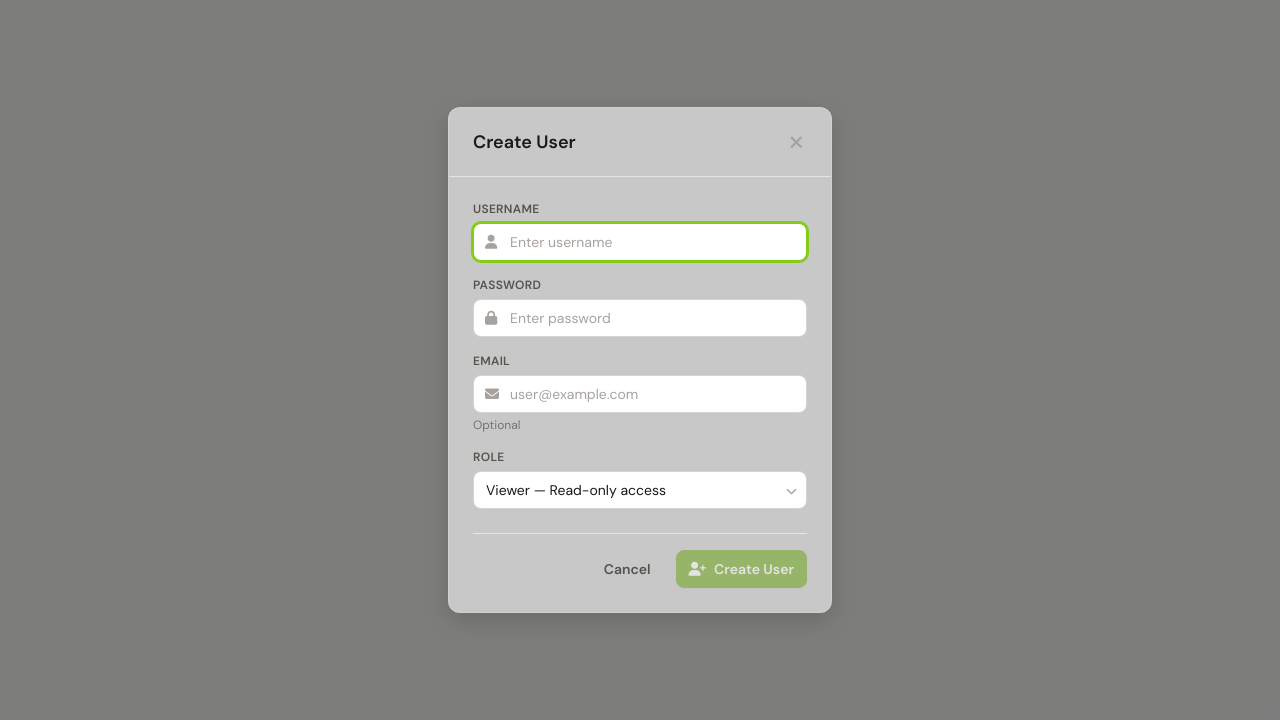
Test: UserCreateModal › classifies password strength as Weak/Moderate/Strong by length
The image size is (1280, 720).
Type "short" into the password field with placeholder "Enter password" at point(640, 318), box left=473, top=299, right=807, bottom=337
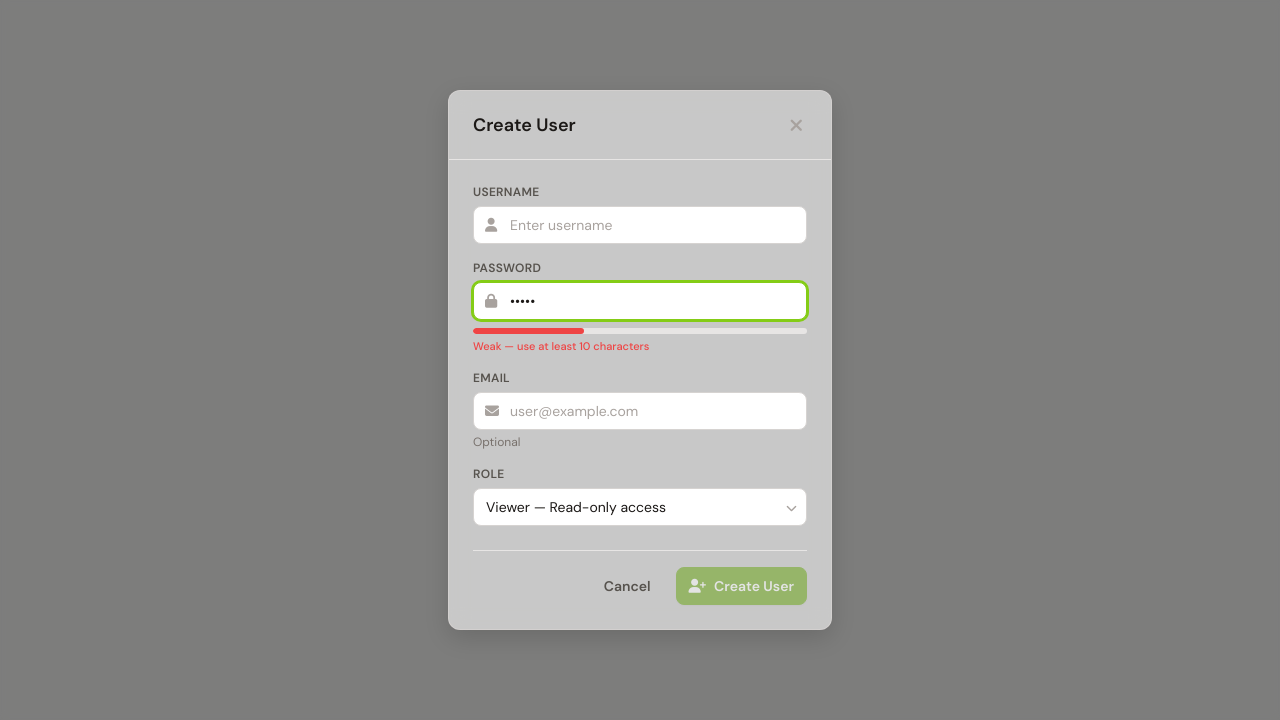
Check: the text "Weak — use at least 10 characters" is shown, box left=473, top=339, right=649, bottom=353
Clear the password field with placeholder "Enter password" at point(640, 301), box left=473, top=282, right=807, bottom=320
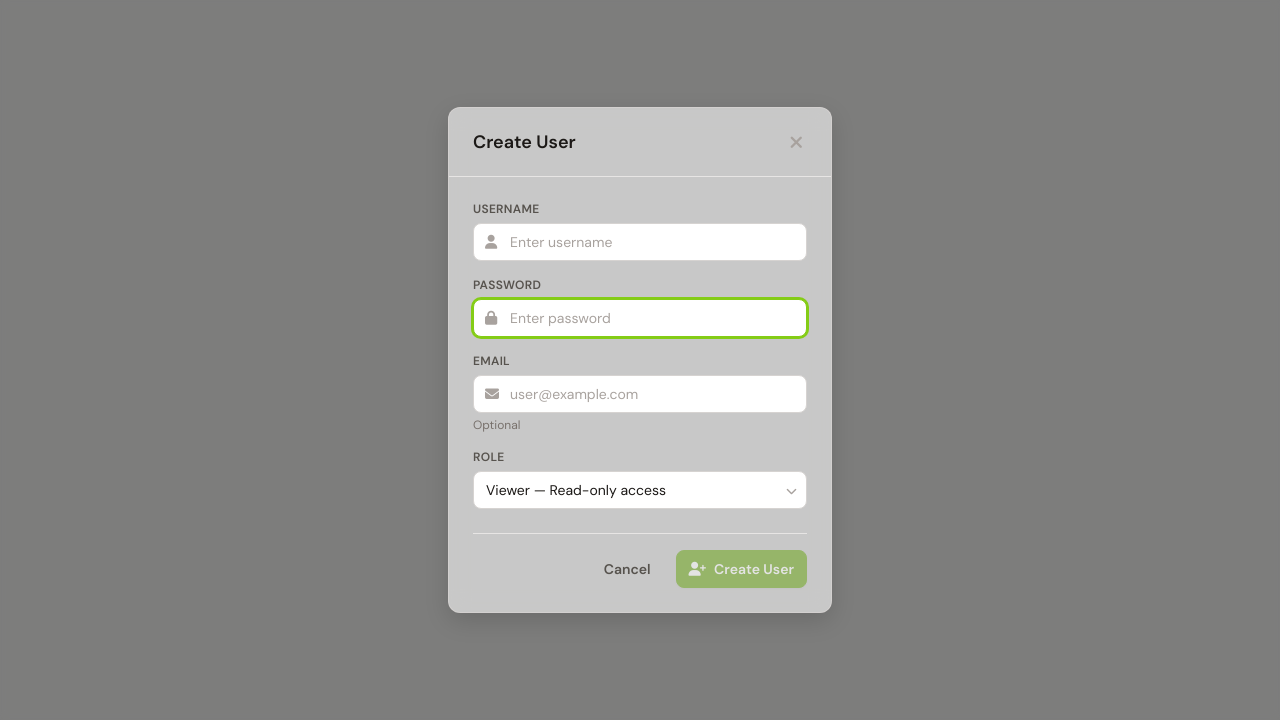
Type "twelve-chars" into the password field with placeholder "Enter password" at point(640, 318), box left=473, top=299, right=807, bottom=337
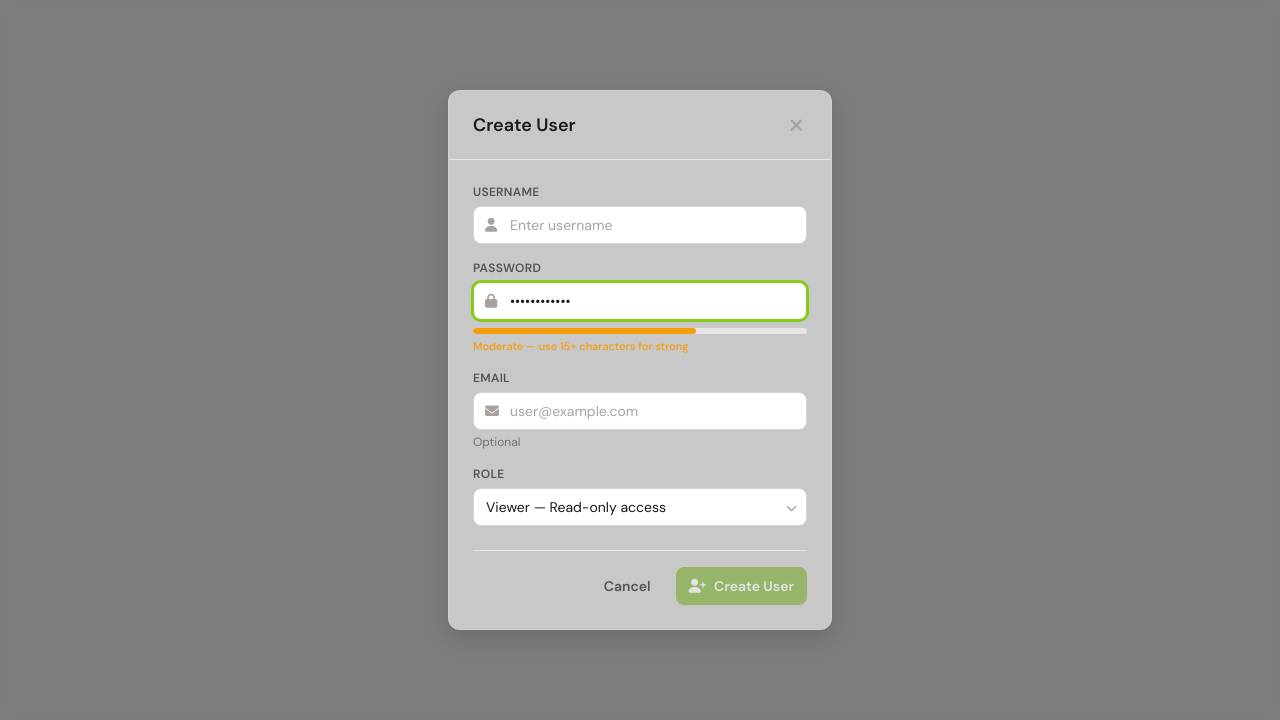
Check: the text "Moderate — use 15+ characters for strong" is shown, box left=473, top=339, right=689, bottom=353
Clear the password field with placeholder "Enter password" at point(640, 301), box left=473, top=282, right=807, bottom=320
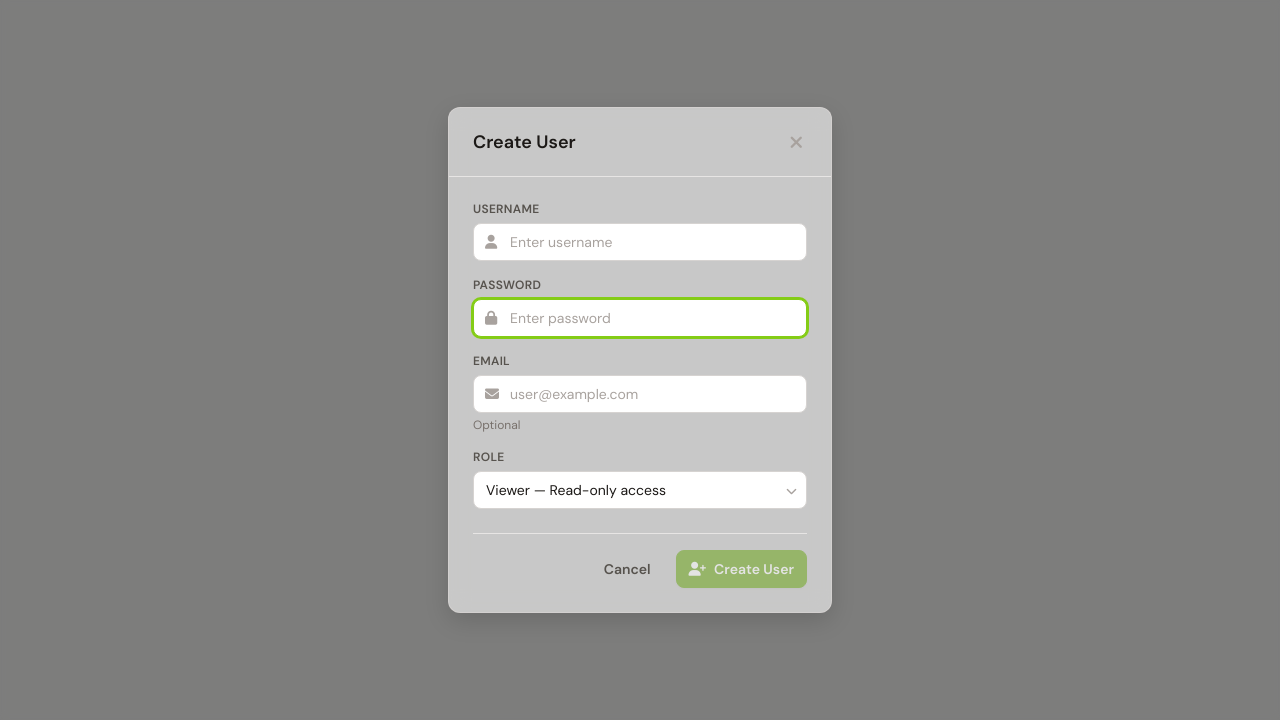
Type "a-very-long-strong-password" into the password field with placeholder "Enter password" at point(640, 318), box left=473, top=299, right=807, bottom=337
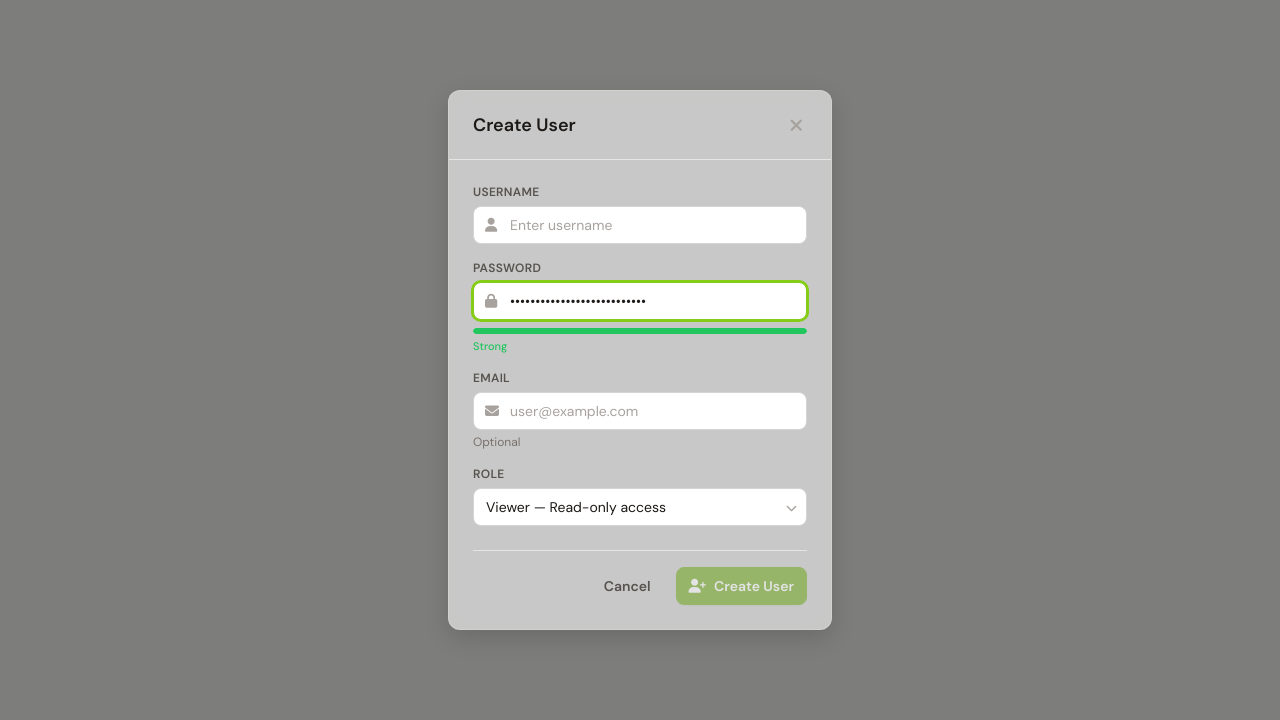
Check: the text "Strong" is shown, box left=473, top=339, right=507, bottom=353
